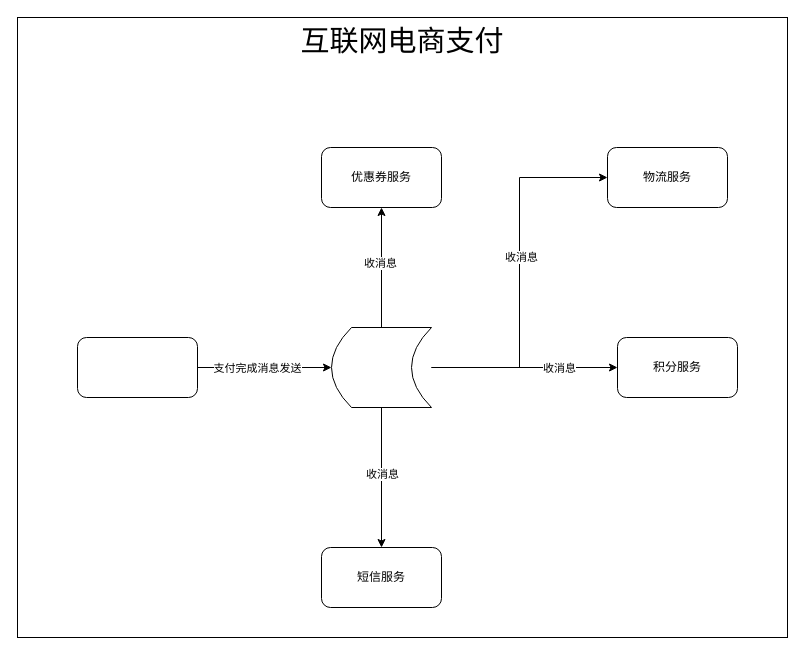
Some shapes in this 805 by 655 pixel diagram are drawn without their labels. Each missing label, with the centre of its shape:
"MQ" belongs at (x=381, y=367).
"订单服务" belongs at (x=137, y=367).
